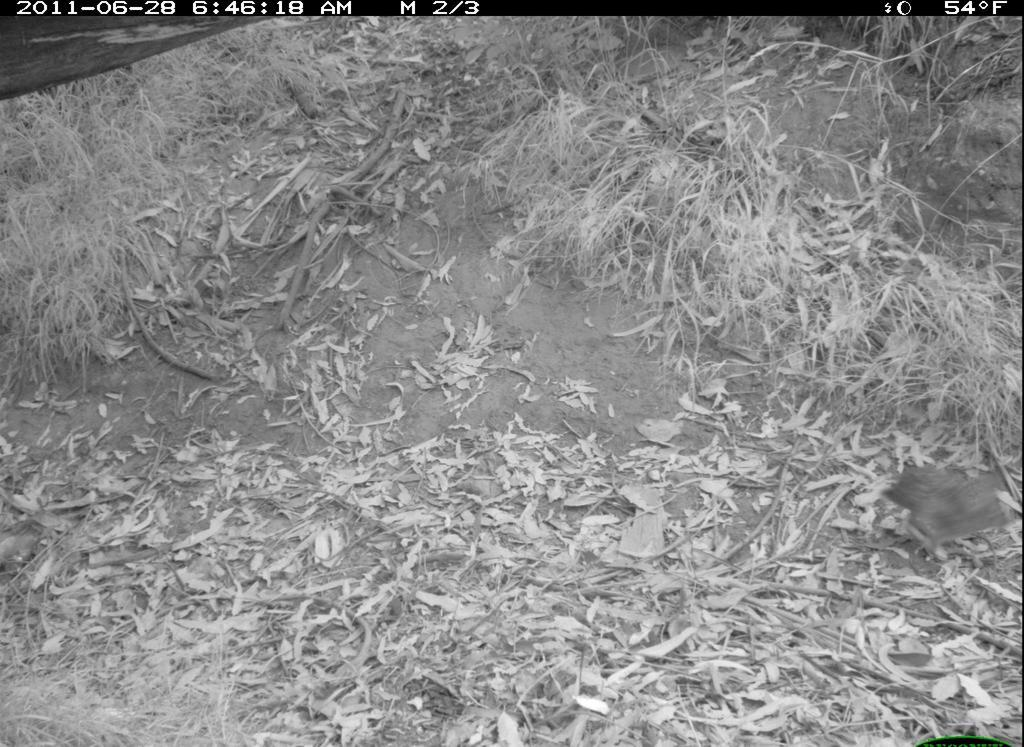rabbit: (882, 451, 1023, 569)
